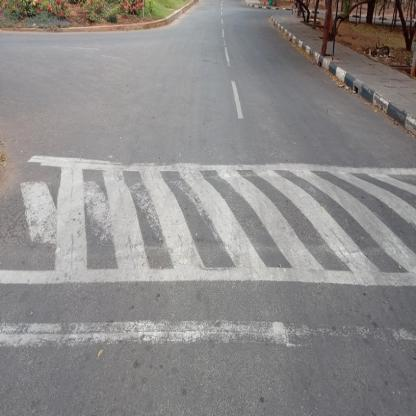speed-bumps: (0, 140, 415, 333)
